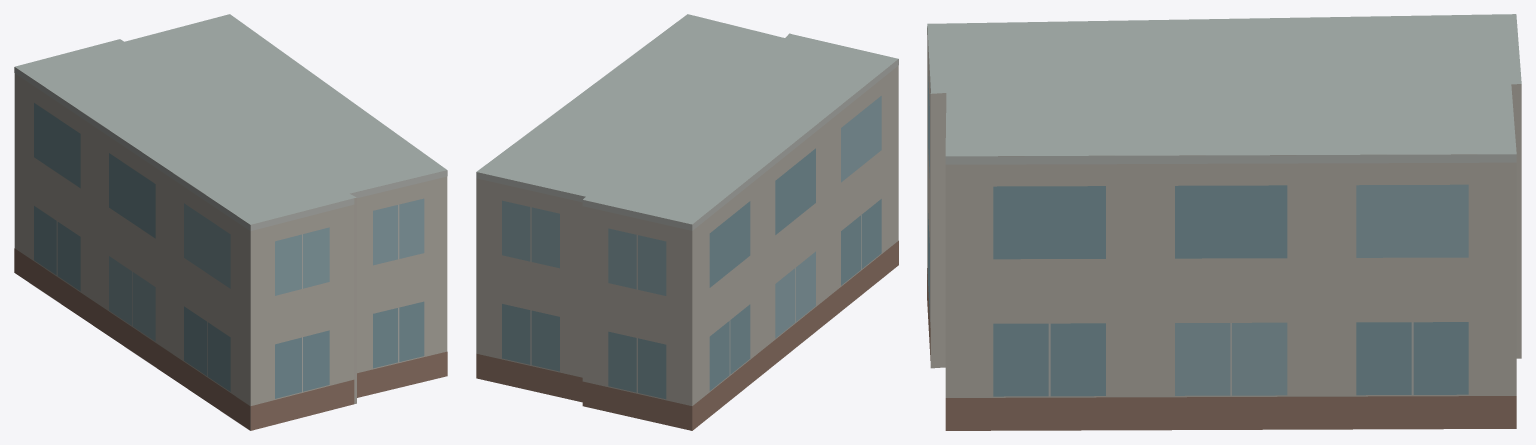
Rendered from survey-upis-32730962.glb.
3 views of the same model, side by side, from view 1: azimuth 30°, elevation 25°; view 2: azimuth 150°, elevation 25°; view 3: azimuth 270°, elevation 25° (orthographic). The views are drawn at different scales.
Parts seen in each view (by area): view 1: survey-upis-32730962.tmp; view 2: survey-upis-32730962.tmp; view 3: survey-upis-32730962.tmp.
Part boxes in pixels (x1=…): survey-upis-32730962.tmp: x1=14, y1=14, x2=447, y2=430; survey-upis-32730962.tmp: x1=476, y1=14, x2=898, y2=430; survey-upis-32730962.tmp: x1=927, y1=14, x2=1521, y2=430.
Bounding box in the file's own units: 8.79 × 7.9 × 15.52.
